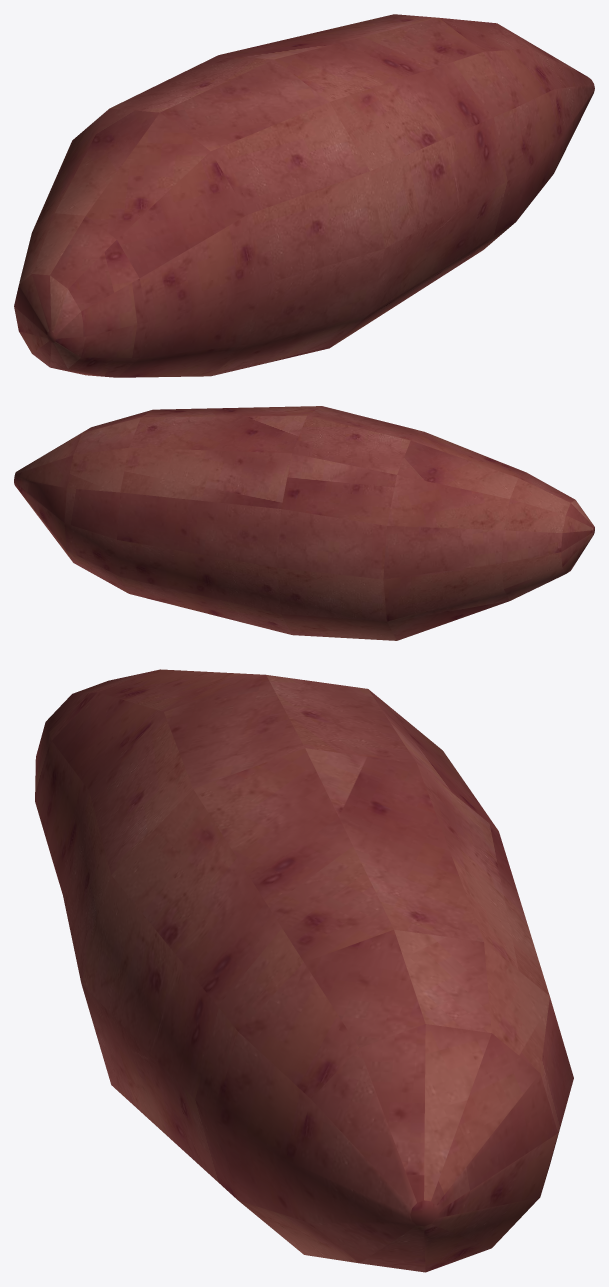
The model's file is sweet_potato.dae.
The picture shows the model from 3 angles, top to bottom: view 1: azimuth 30°, elevation 25°; view 2: azimuth 150°, elevation 25°; view 3: azimuth 270°, elevation 25°; orthographic projection. The views are drawn at different scales.
Parts seen in each view (by area): view 1: Component_25; view 2: Component_25; view 3: Component_25.
Boxes of the visible parts, x1,y1,x2,y2 form: Component_25: (14, 14, 594, 377); Component_25: (14, 406, 594, 640); Component_25: (35, 669, 573, 1272).
Bounding box in the file's own units: 8.2 × 3.91 × 3.36.
1 material, 1 textured.
